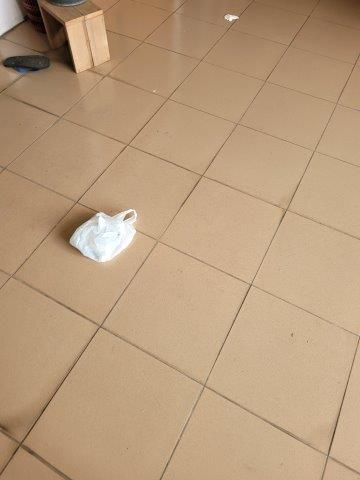plastik: (70, 208, 140, 259)
